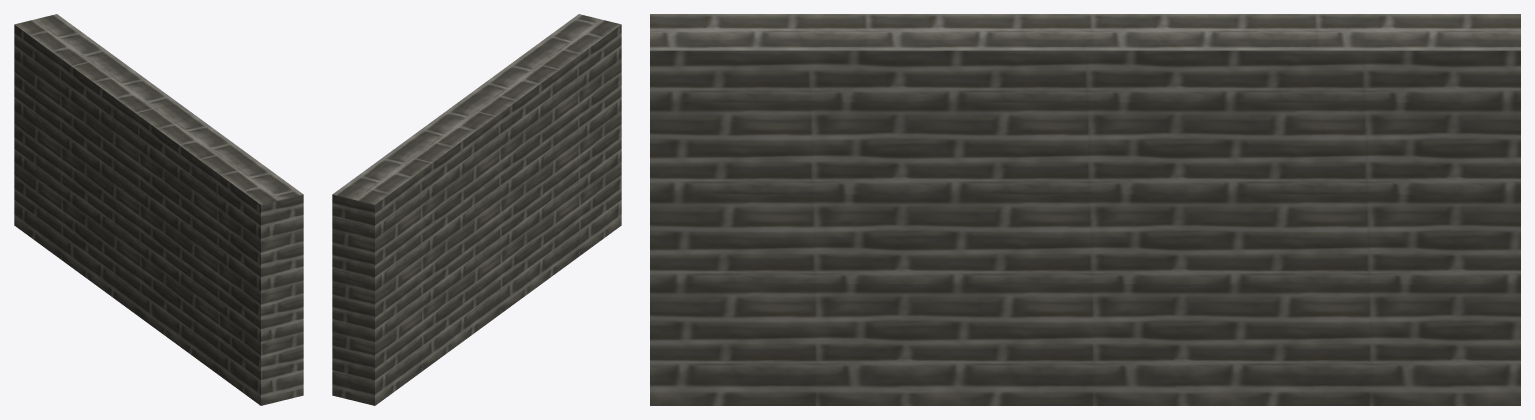
Rendered from Wall_Mesh_01.fbx.
3 renders of one model, left to right at view 1: azimuth 30°, elevation 25°; view 2: azimuth 150°, elevation 25°; view 3: azimuth 270°, elevation 25°, orthographic. The views are drawn at different scales.
Parts seen in each view (by area): view 1: pCube1; view 2: pCube1; view 3: pCube1.
Boxes of the visible parts, x1=… form: pCube1: x1=14, y1=14, x2=303, y2=405; pCube1: x1=332, y1=14, x2=621, y2=405; pCube1: x1=650, y1=14, x2=1520, y2=405.
Bounding box in the file's own units: 0.8 × 3.6 × 8.
